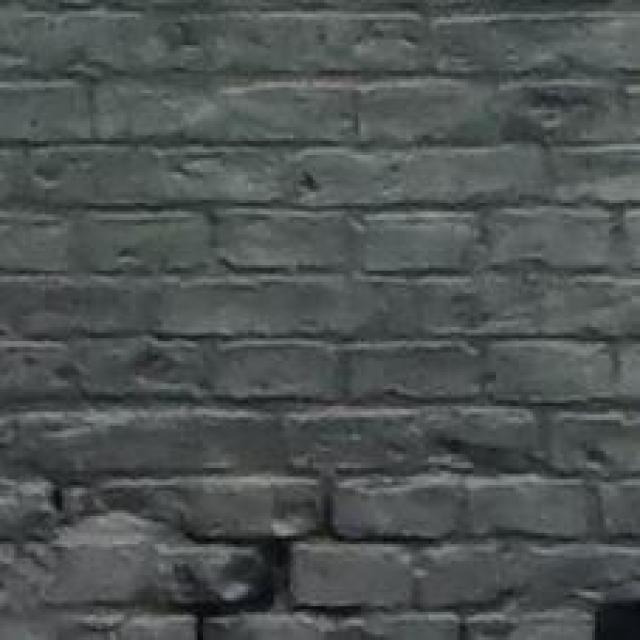Crack: (0, 423, 640, 640)
